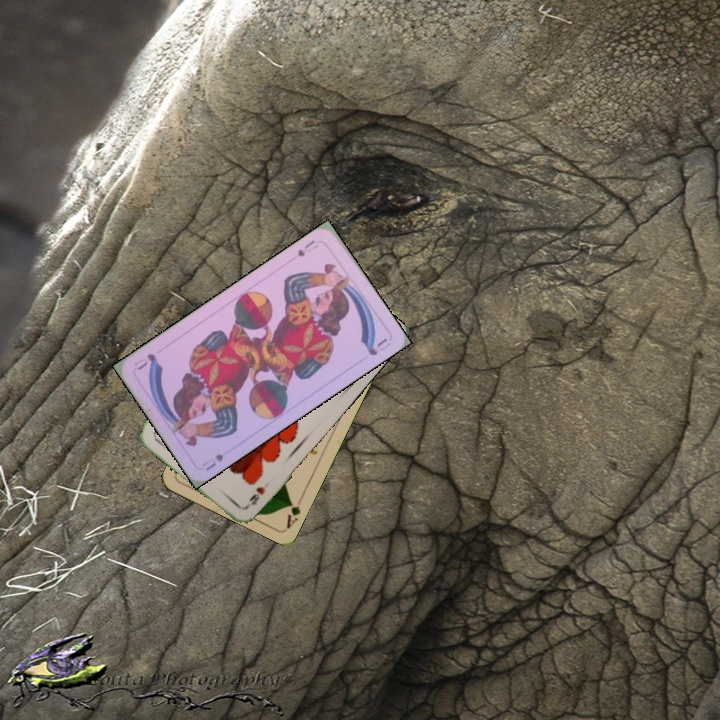GA: (282, 492, 306, 531)
H9: (242, 479, 271, 510)
SU: (198, 450, 226, 473), (293, 236, 321, 259)
